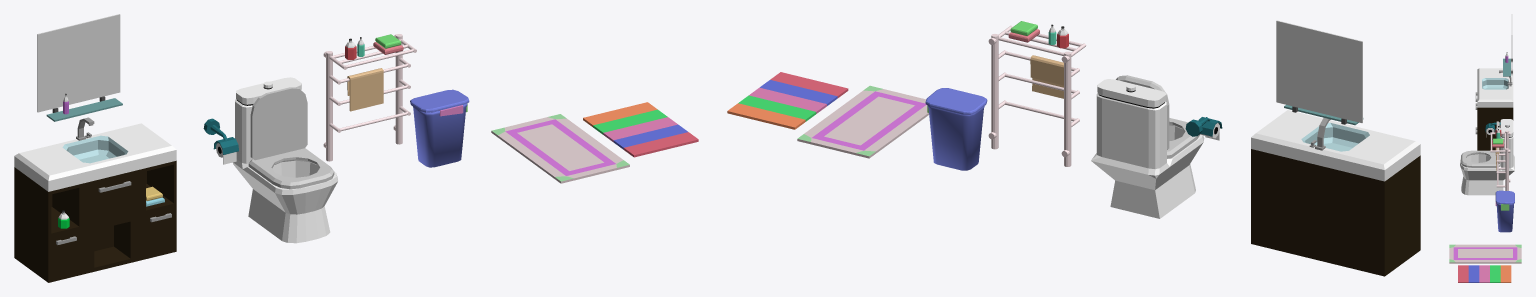
The model's file is Bathroom.fbx.
The picture shows the model from 3 angles, left to right: view 1: azimuth 30°, elevation 25°; view 2: azimuth 150°, elevation 25°; view 3: azimuth 270°, elevation 25°; orthographic projection. The views are drawn at different scales.
Visible parts, largest first — view 1: Sink, Toilet, mirror, carpet, Basket, carpet1, Rack, Towel.001, Toilet paper; view 2: Sink, Toilet, mirror, carpet, Basket, carpet1, Rack, Towel.001, Toilet paper; view 3: Sink, Toilet, carpet, carpet1, Basket, Rack, mirror, Toilet paper, Towel2.
Boxes of the visible parts, bbox=[...] form: Sink: bbox=[14, 117, 176, 282]; Toilet: bbox=[233, 77, 337, 243]; mirror: bbox=[37, 14, 122, 121]; carpet: bbox=[491, 114, 629, 183]; Basket: bbox=[410, 89, 469, 167]; carpet1: bbox=[583, 102, 698, 157]; Rack: bbox=[323, 34, 416, 161]; Towel.001: bbox=[347, 68, 383, 111]; Toilet paper: bbox=[203, 118, 238, 164]; Sink: bbox=[1251, 110, 1420, 276]; Toilet: bbox=[1091, 75, 1204, 218]; mirror: bbox=[1276, 20, 1363, 125]; carpet: bbox=[797, 85, 929, 158]; Basket: bbox=[925, 88, 987, 170]; carpet1: bbox=[727, 72, 848, 129]; Rack: bbox=[988, 25, 1086, 166]; Towel.001: bbox=[1030, 55, 1063, 98]; Toilet paper: bbox=[1185, 117, 1222, 140]; Sink: bbox=[1475, 68, 1513, 152]; Toilet: bbox=[1460, 119, 1514, 195]; carpet: bbox=[1449, 244, 1521, 263]; carpet1: bbox=[1458, 265, 1511, 282]; Basket: bbox=[1495, 190, 1514, 232]; Rack: bbox=[1490, 130, 1510, 190]; mirror: bbox=[1503, 14, 1512, 76]; Toilet paper: bbox=[1485, 122, 1500, 137]; Towel2: bbox=[1493, 138, 1503, 144].
Bounding box in the file's own units: 813 × 277 × 155.
